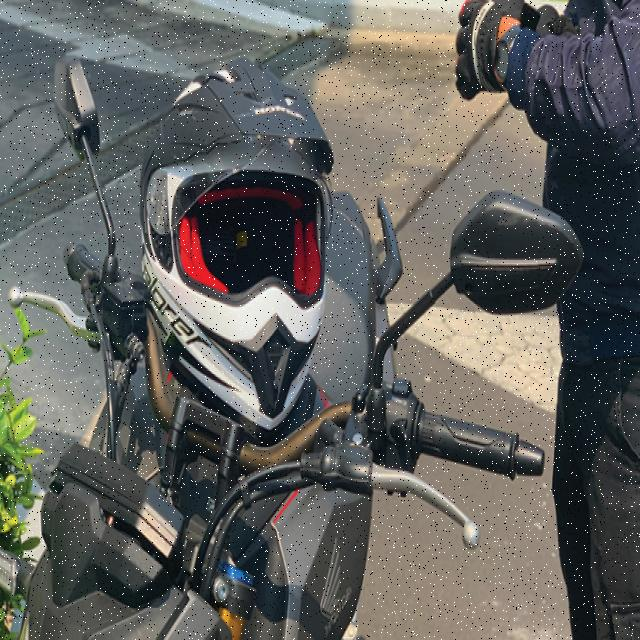Helmet: (136, 59, 336, 440)
